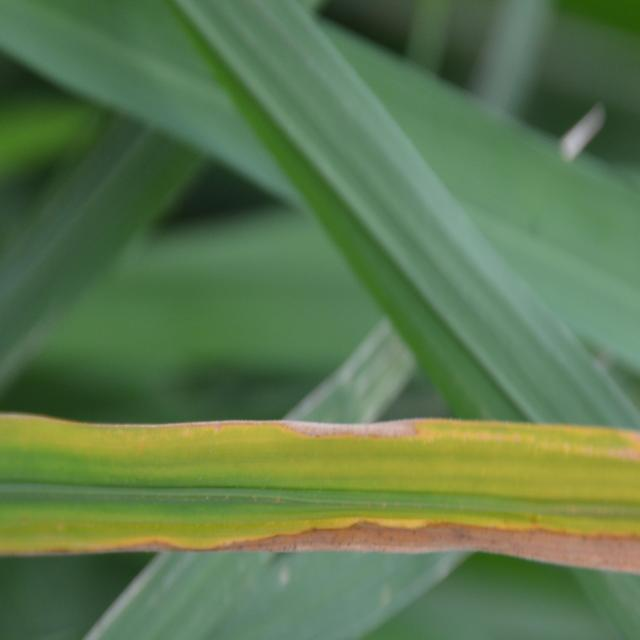Rice Tungro: (7, 390, 634, 581)
